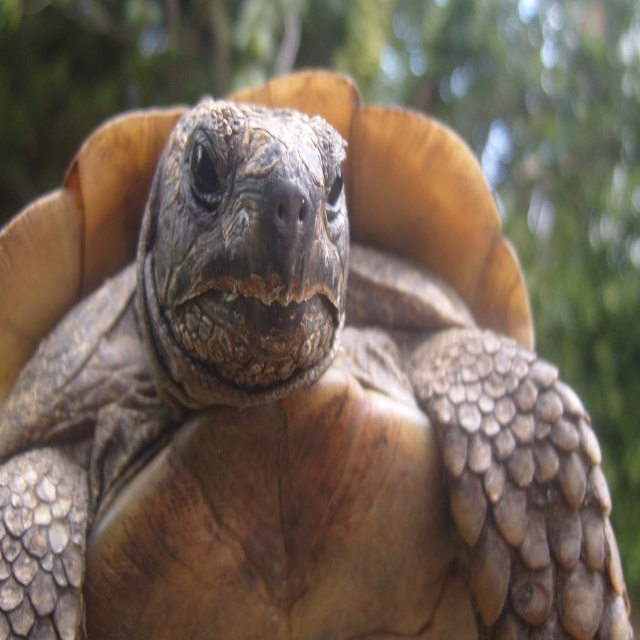Sea turtle: (0, 64, 634, 639)
